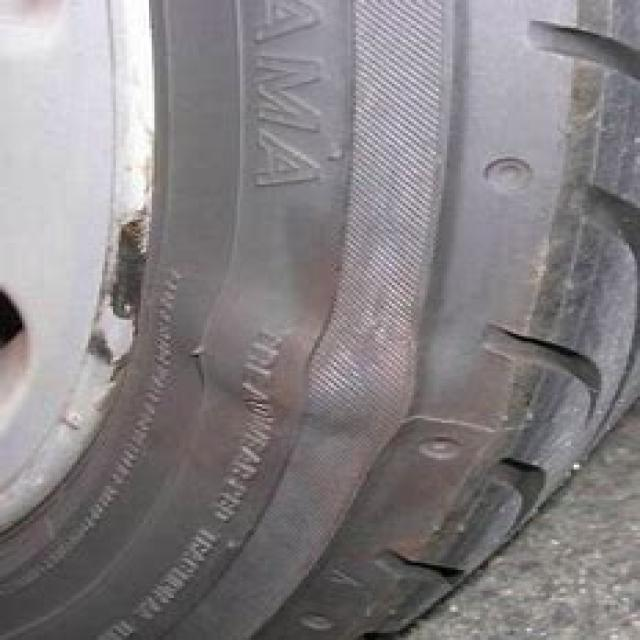Bulge: (152, 259, 398, 448)
